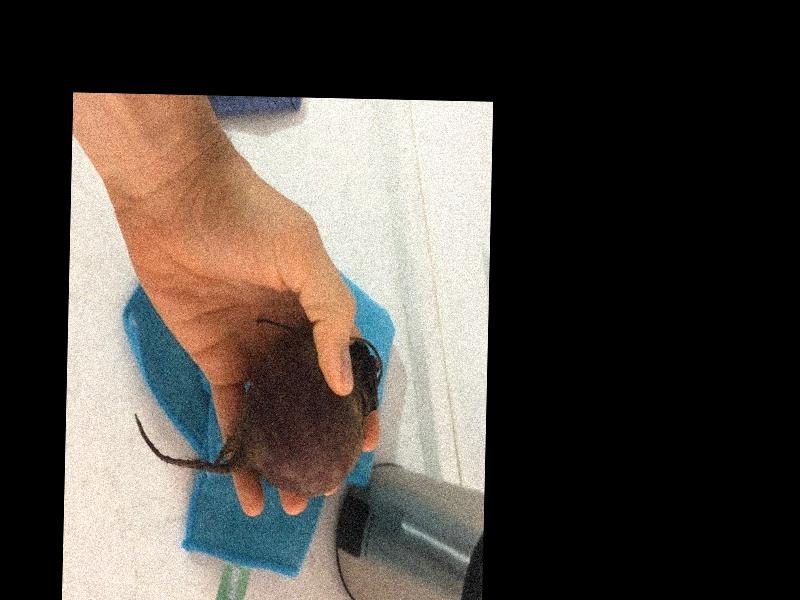Beet: (132, 317, 382, 497)
